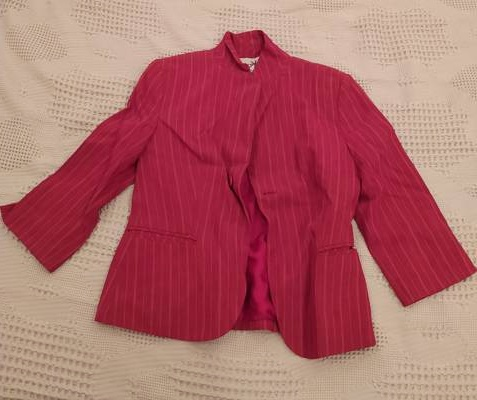Blazer: (2, 39, 450, 346)
